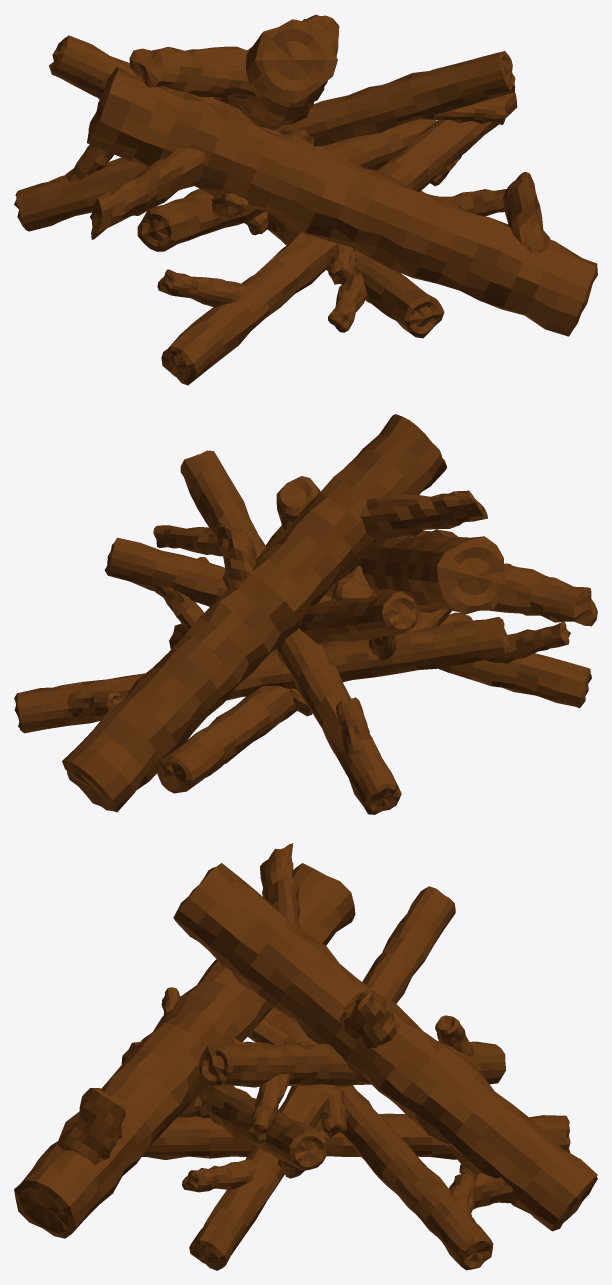
The model's file is bois pour feu.fbx.
The picture shows the model from 3 angles, top to bottom: view 1: azimuth 30°, elevation 25°; view 2: azimuth 150°, elevation 25°; view 3: azimuth 270°, elevation 25°; orthographic projection. The views are drawn at different scales.
Visible parts, largest first — view 1: Cylinder.012; view 2: Cylinder.012; view 3: Cylinder.012.
Boxes of the visible parts, x1=… form: Cylinder.012: x1=14, y1=14, x2=597, y2=385; Cylinder.012: x1=14, y1=414, x2=597, y2=814; Cylinder.012: x1=14, y1=843, x2=597, y2=1270.
Bounding box in the file's own units: 47.13 × 29.7 × 52.44.
